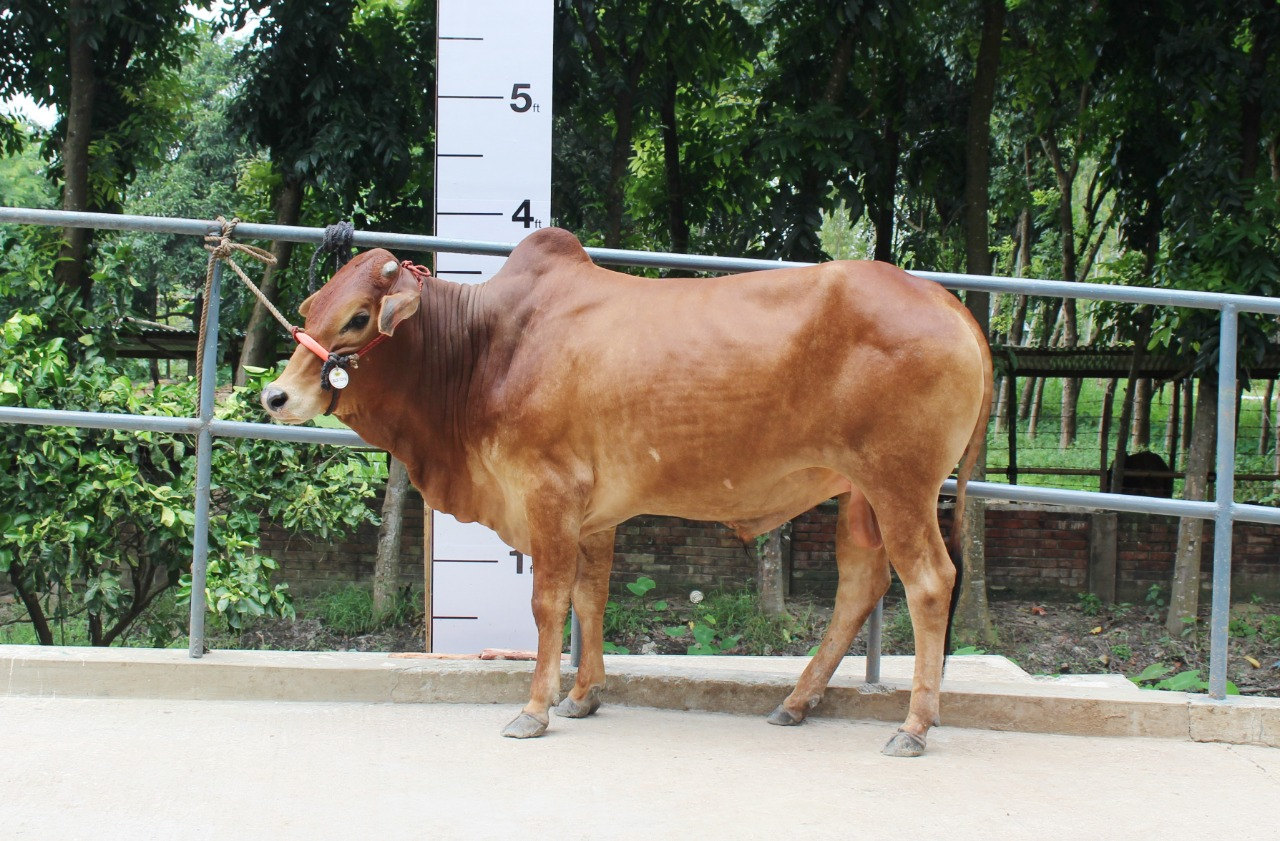cow: (249, 222, 1010, 761)
